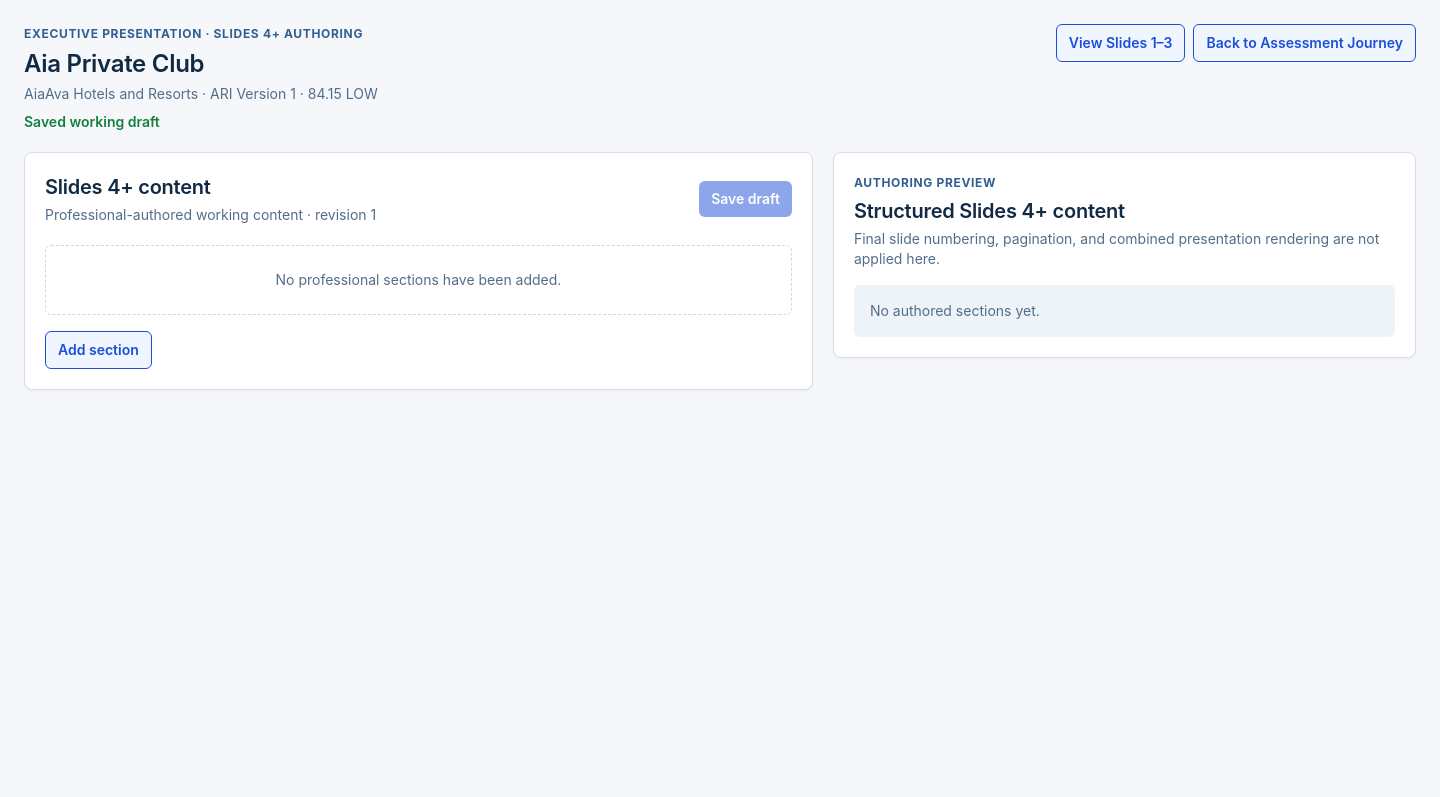
Test: EPA5 Slides 4+ professional authoring › preserves the unsaved copy and blocks blind overwrite after a 412
Click the button "Add section" at (98, 350), box [45, 331, 152, 369]
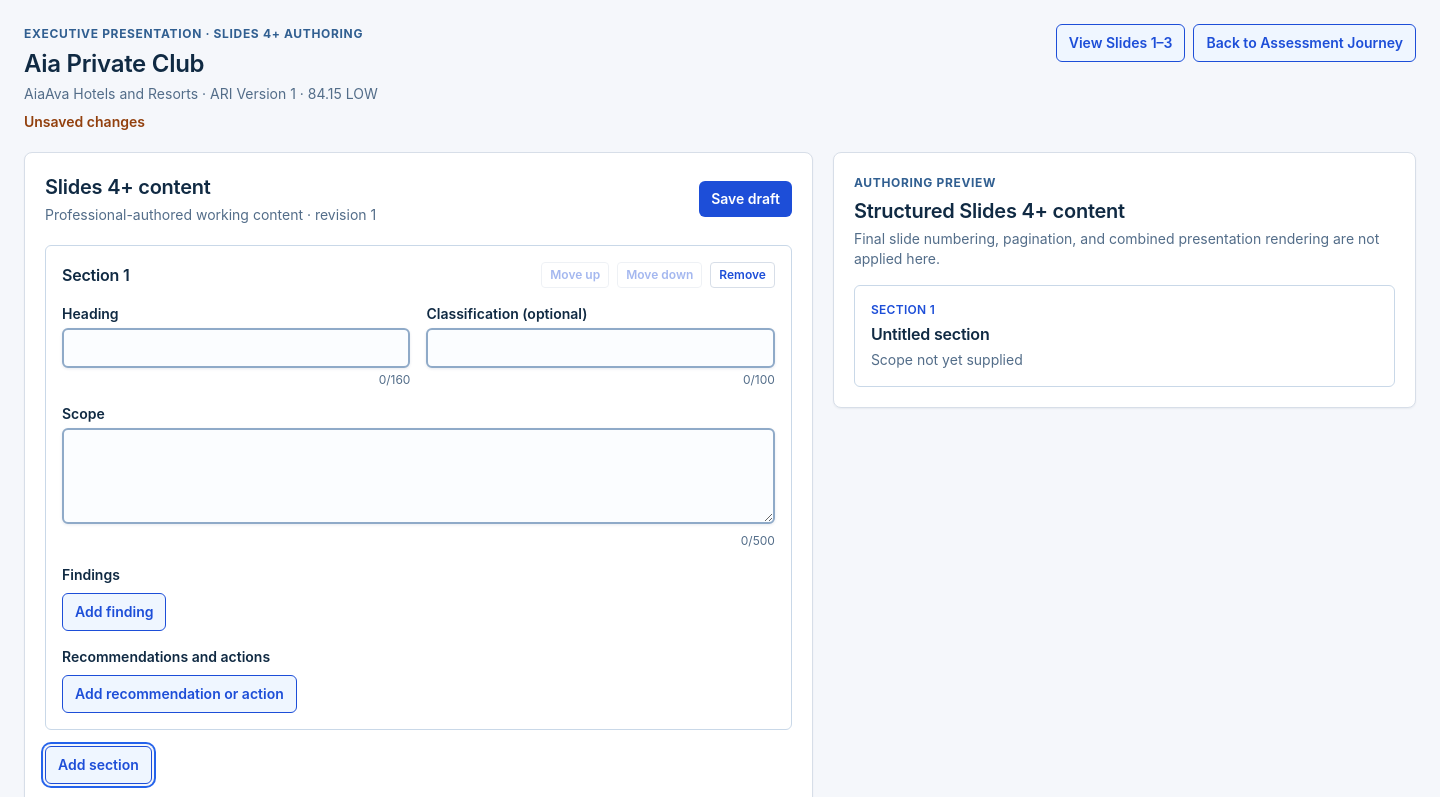
Type "Local unsaved heading" into the field labelled "Heading" at (236, 348), box [62, 328, 410, 368]
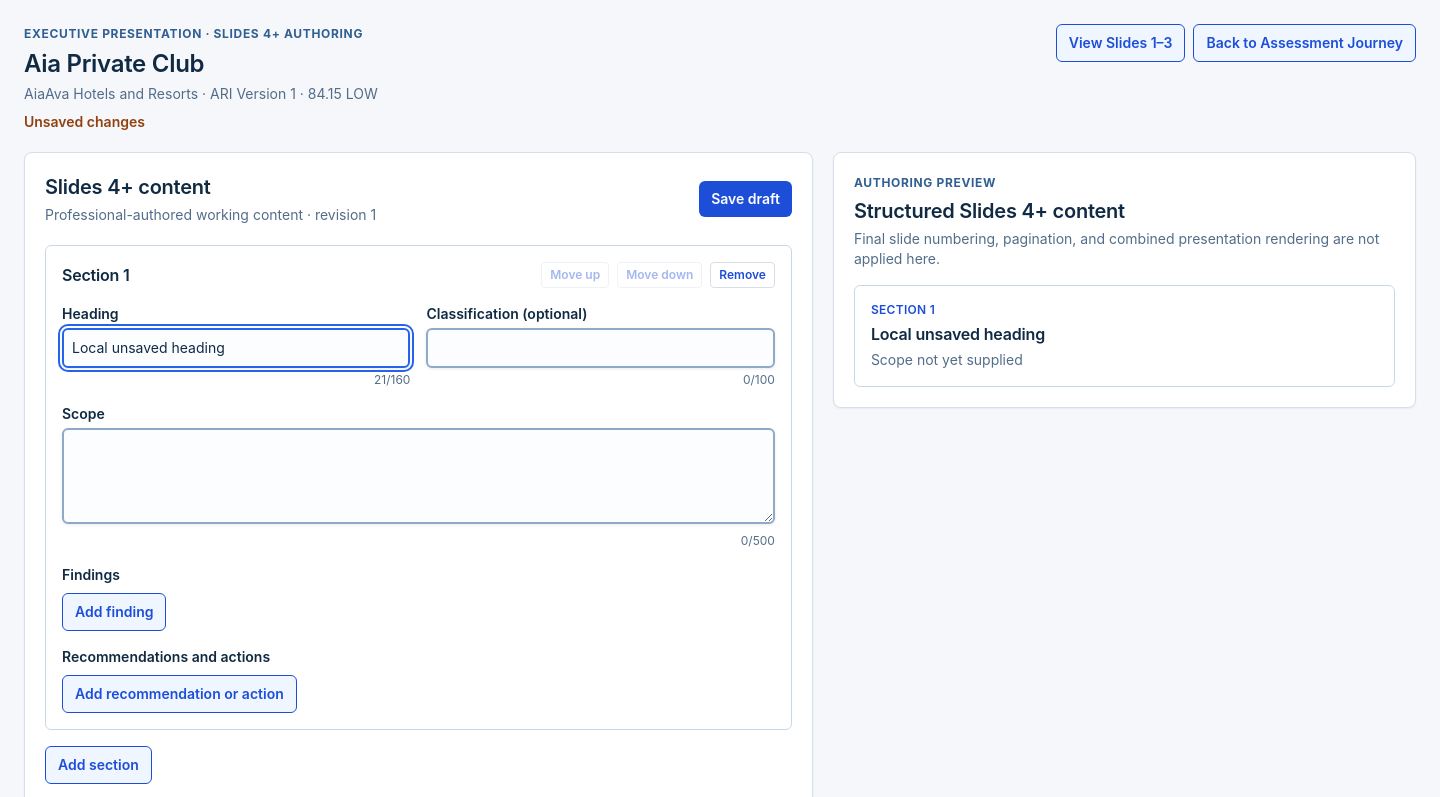
Type "Facility scope" into the text box labelled "Scope" at (418, 476), box [62, 428, 775, 524]
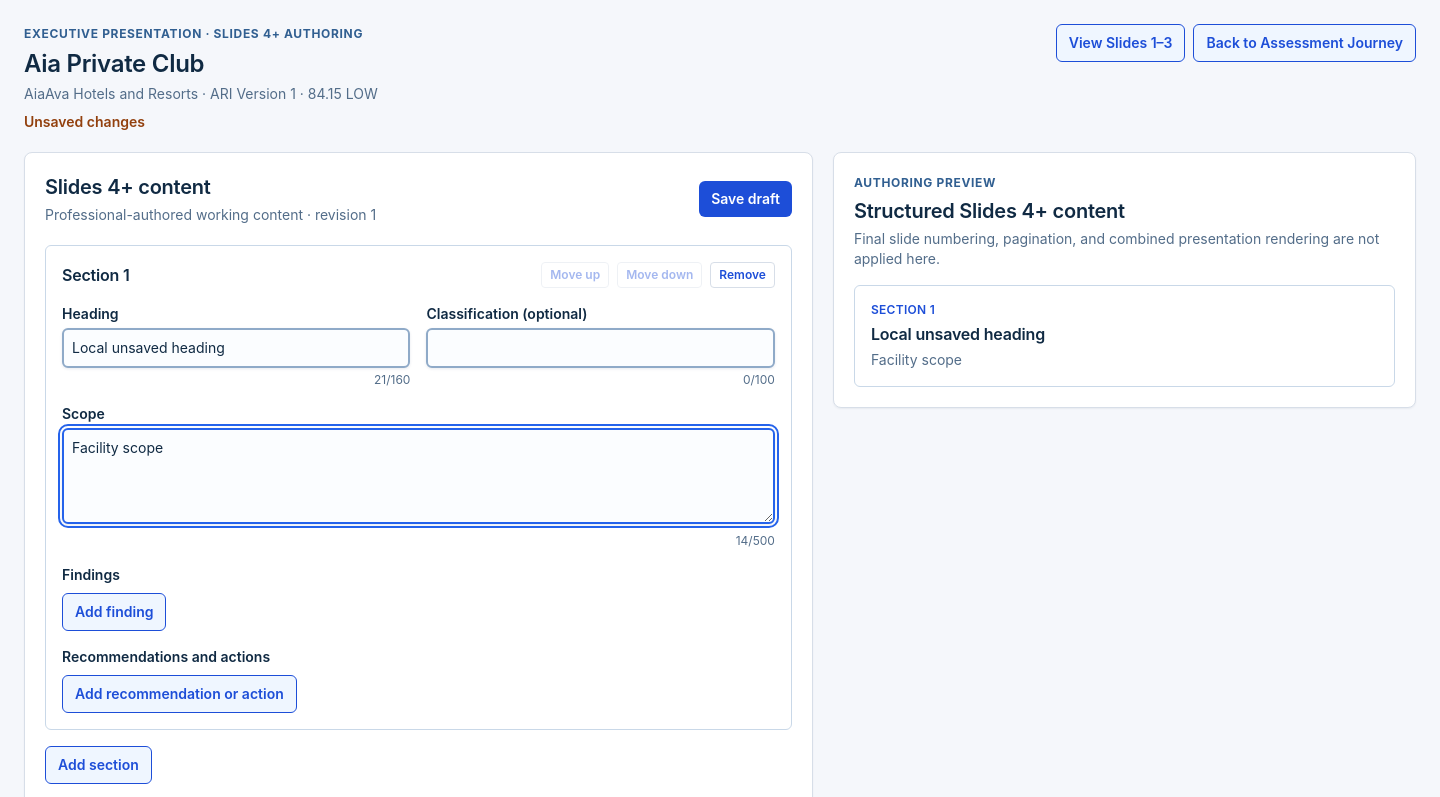
Click the button "Save draft" at (746, 199), box [699, 181, 792, 217]
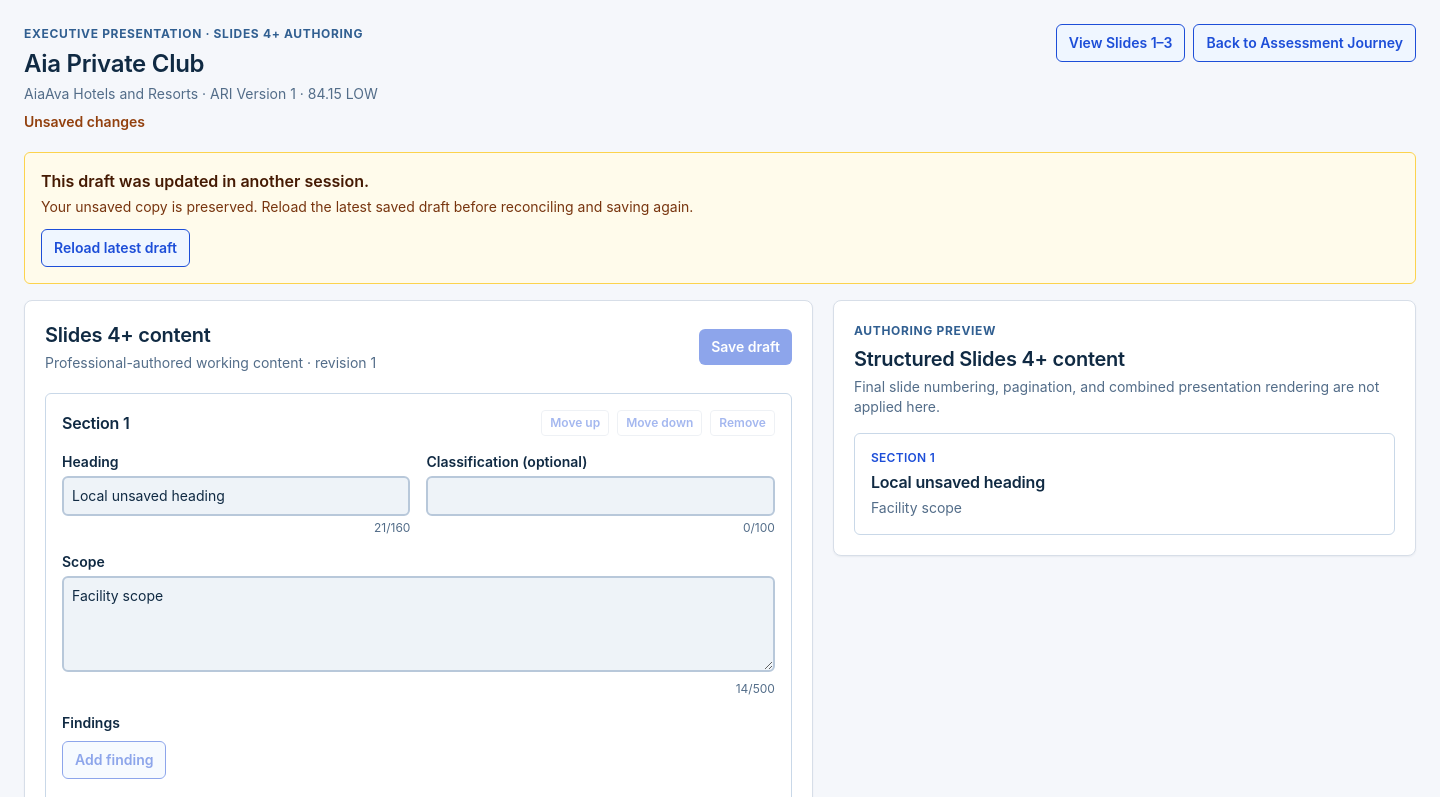
Check: the text "This draft was updated in another session." is shown, box [41, 171, 369, 191]
Check: the button "Save draft" is disabled, box [699, 329, 792, 365]
